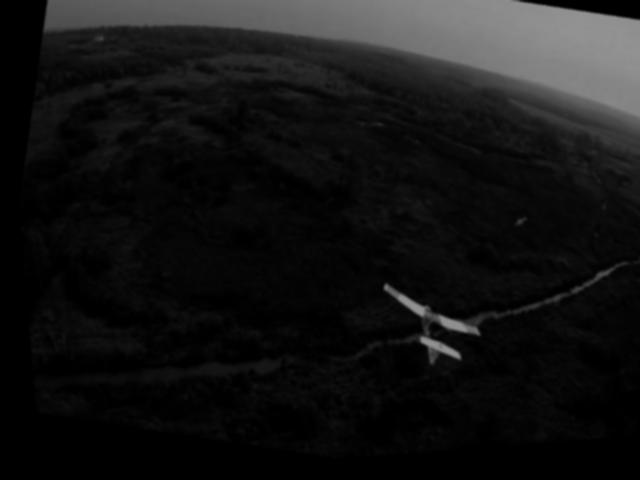hedef: (346, 272, 497, 398)
